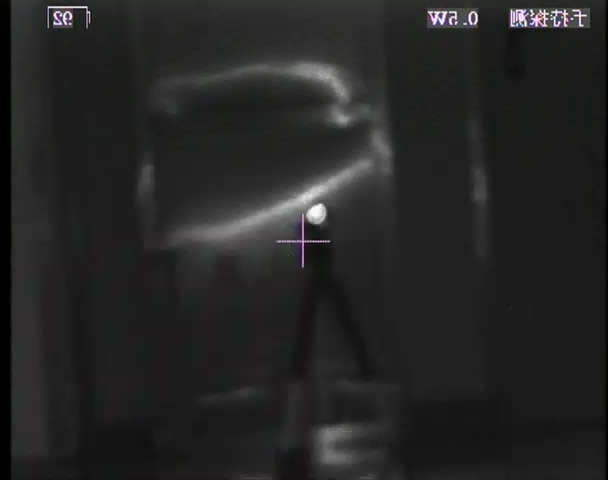my: (303, 200, 328, 226)
